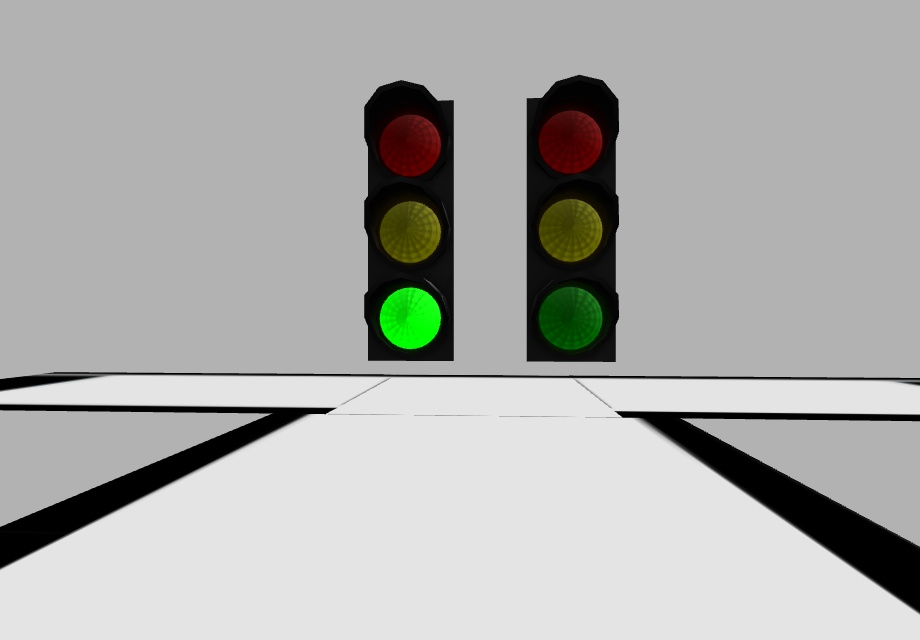green_off: (534, 282, 606, 348)
green_on: (372, 281, 448, 350)
